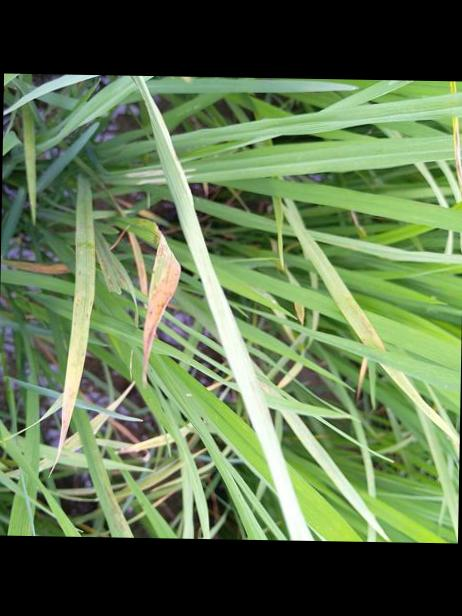Leaf Streak: (50, 202, 93, 473), (121, 218, 180, 379), (371, 359, 460, 448), (333, 272, 384, 351), (126, 231, 146, 297)
